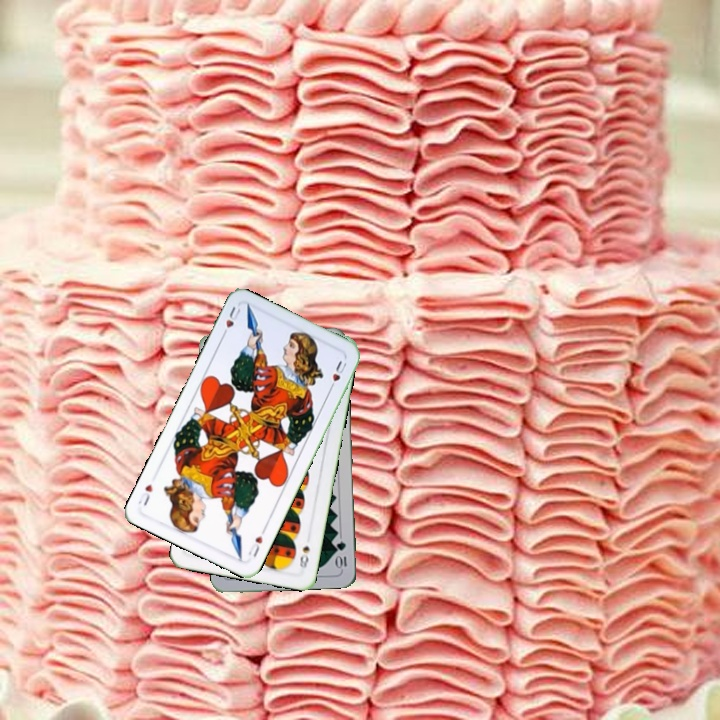G10: (333, 537, 349, 571)
HU: (218, 302, 243, 340), (244, 524, 268, 560)
S8: (295, 542, 312, 571)
